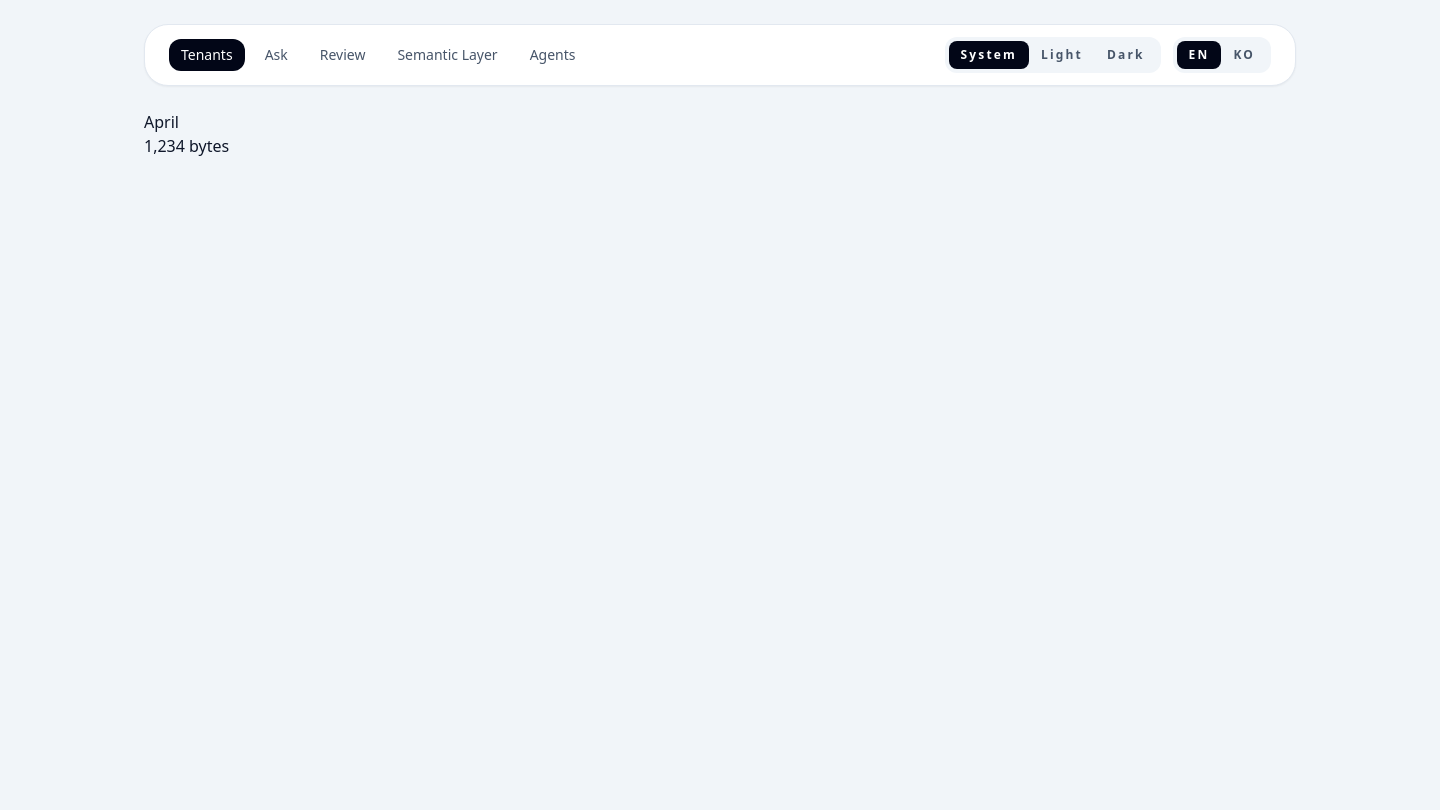
Layout › defaults to English, shows theme controls, and toggles nav plus formatting to Korean
expect the link "Tenants" is shown: met, box [169,39,245,71]
expect the link "Ask" is shown: met, box [265,45,288,64]
Click the button "Dark" at [1126, 55], box [1095,41,1157,69]
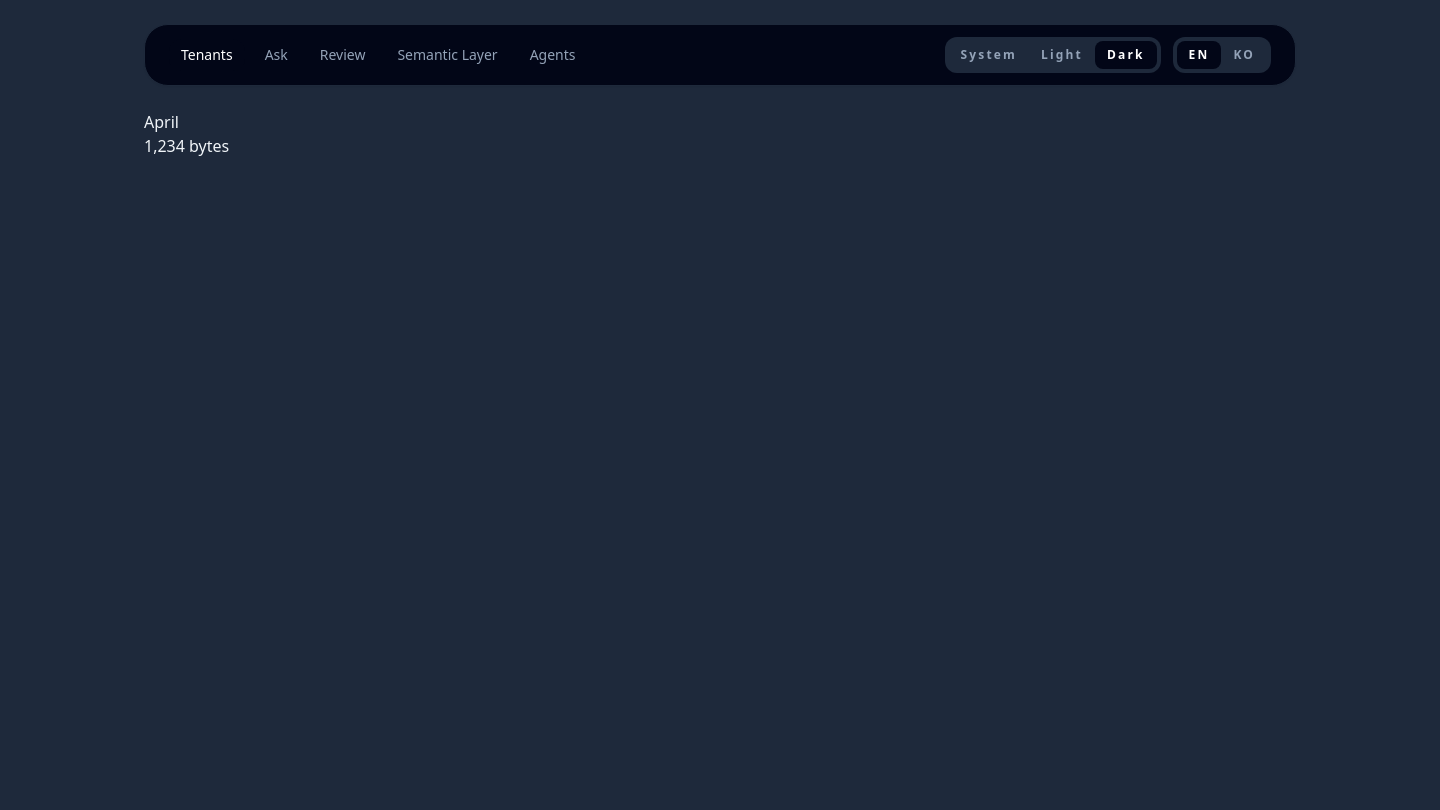
Click the button "KO" at [1244, 55], box [1221,41,1267,69]
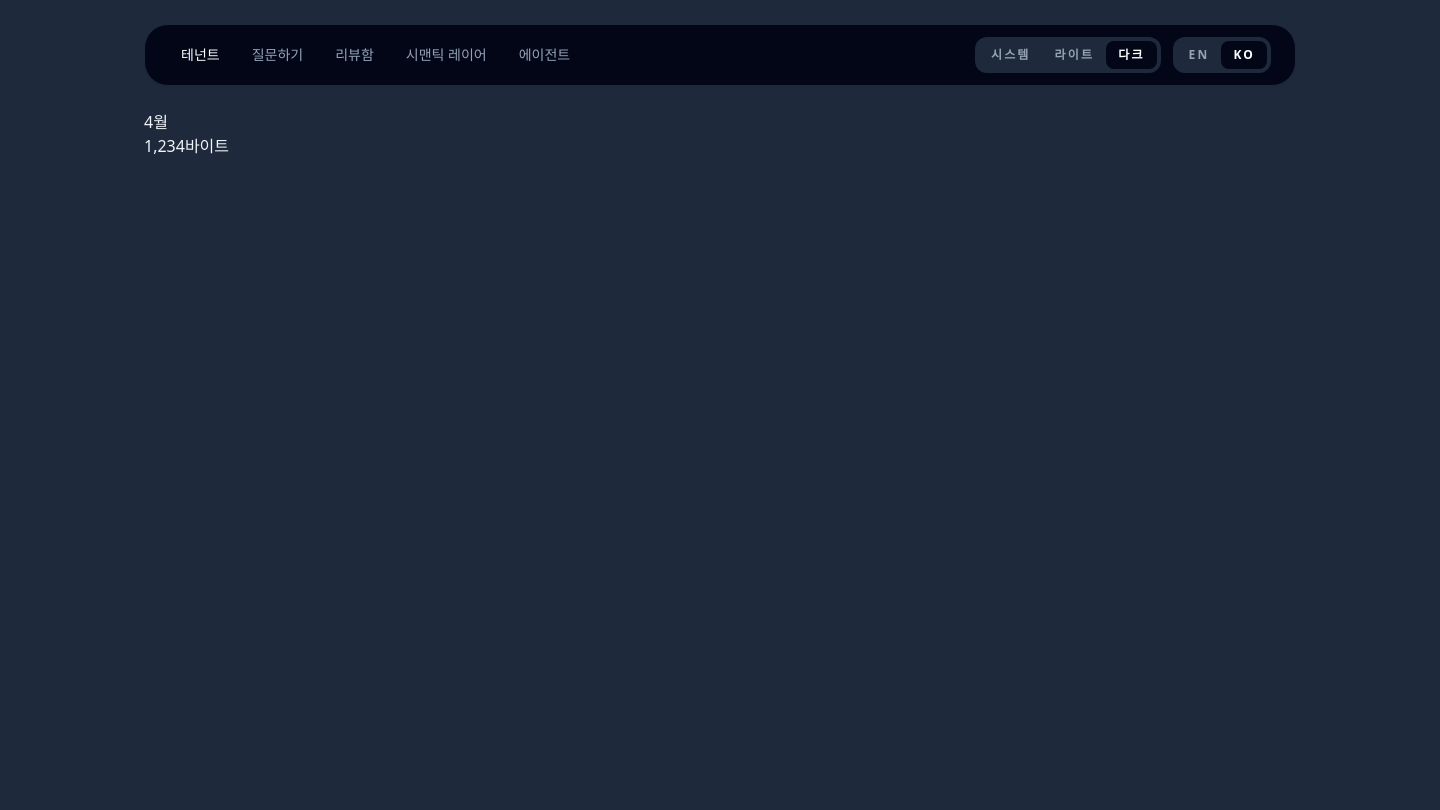
expect the link "테넌트" is shown: met, box [169,39,232,71]
expect the link "질문하기" is shown: met, box [252,45,303,64]
expect the link "리뷰함" is shown: met, box [335,45,374,64]
